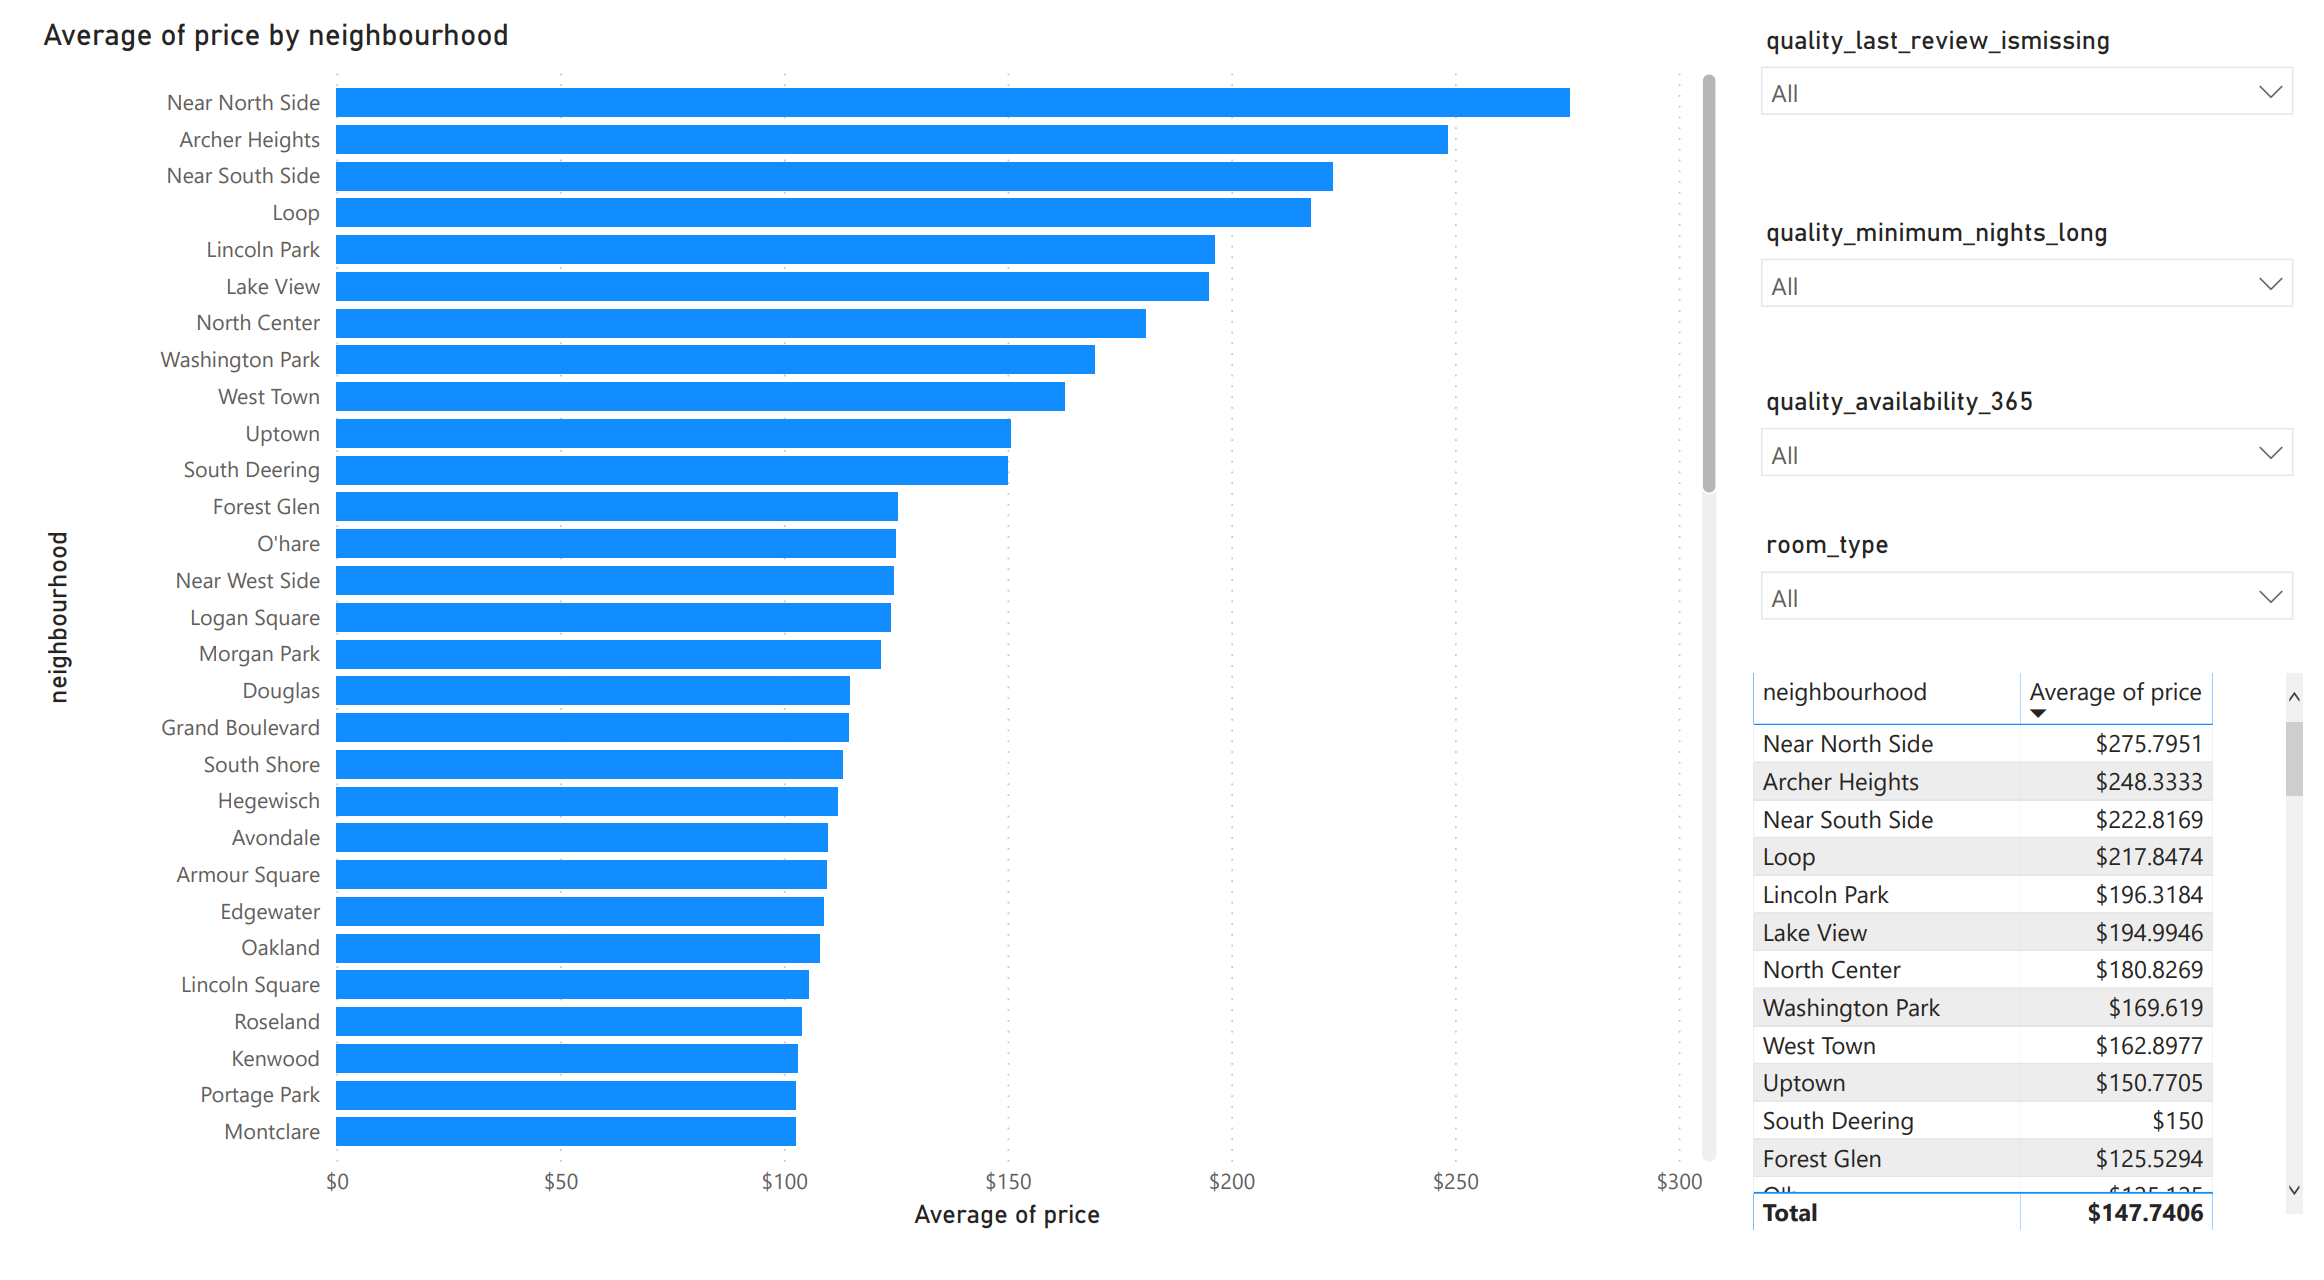

What the dashboard file says about the page in this screenshot:
{"tool":"powerbi","page":{"name":"Page 1","canvas":[1280,720],"ordinal":0},"visuals":[{"type":"clusteredBarChart","fields":{"Category":["airbnb_cleaned.neighbourhood"],"Y":["Avg(airbnb_cleaned.price)"]},"box":[10,0,942.9,681.4],"z":0},{"type":"slicer","fields":{"Values":["airbnb_cleaned.quality_last_review_ismissing"]},"box":[962.9,0,317.1,82.9],"z":1},{"type":"slicer","fields":{"Values":["airbnb_cleaned.quality_minimum_nights_long"]},"box":[962.9,107.1,317.1,94.3],"z":2},{"type":"slicer","fields":{"Values":["airbnb_cleaned.quality_availability_365"]},"box":[962.9,201.4,317.1,80],"z":3},{"type":"slicer","fields":{"Values":["airbnb_cleaned.room_type"]},"box":[962.9,281.4,317.1,80],"z":4},{"type":"tableEx","fields":{"Values":["airbnb_cleaned.neighbourhood","Avg(airbnb_cleaned.price)"]},"box":[963,361,317,320],"z":5}]}

Visuals, with their boxes in screenshot pixels (x1, y1, x2, y2), scaled from the page's 1280x720 canvas onto the 2324x1280 screenshot:
clusteredBarChart - airbnb_cleaned.neighbourhood x Avg(airbnb_cleaned.price): [18, 0, 1730, 1211]
slicer - airbnb_cleaned.quality_last_review_ismissing: [1748, 0, 2323, 147]
slicer - airbnb_cleaned.quality_minimum_nights_long: [1748, 190, 2323, 358]
slicer - airbnb_cleaned.quality_availability_365: [1748, 358, 2323, 500]
slicer - airbnb_cleaned.room_type: [1748, 500, 2323, 642]
tableEx - airbnb_cleaned.neighbourhood x Avg(airbnb_cleaned.price): [1748, 642, 2323, 1211]
